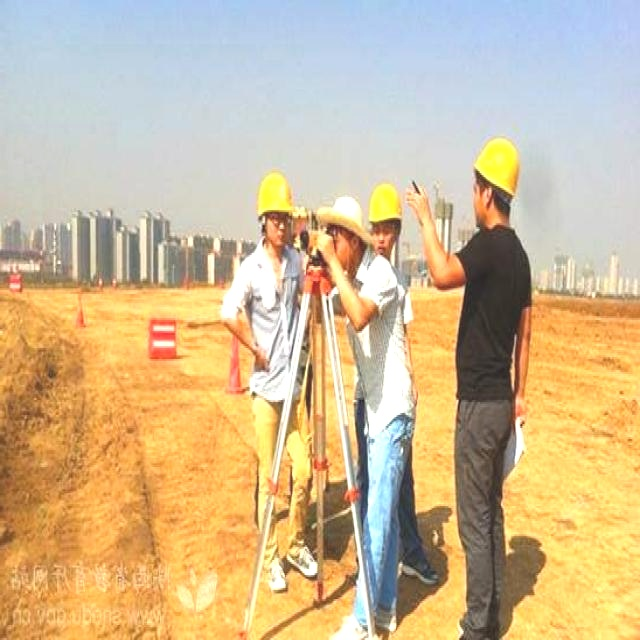Con_Casco: (470, 135, 518, 227), (258, 169, 294, 243)
